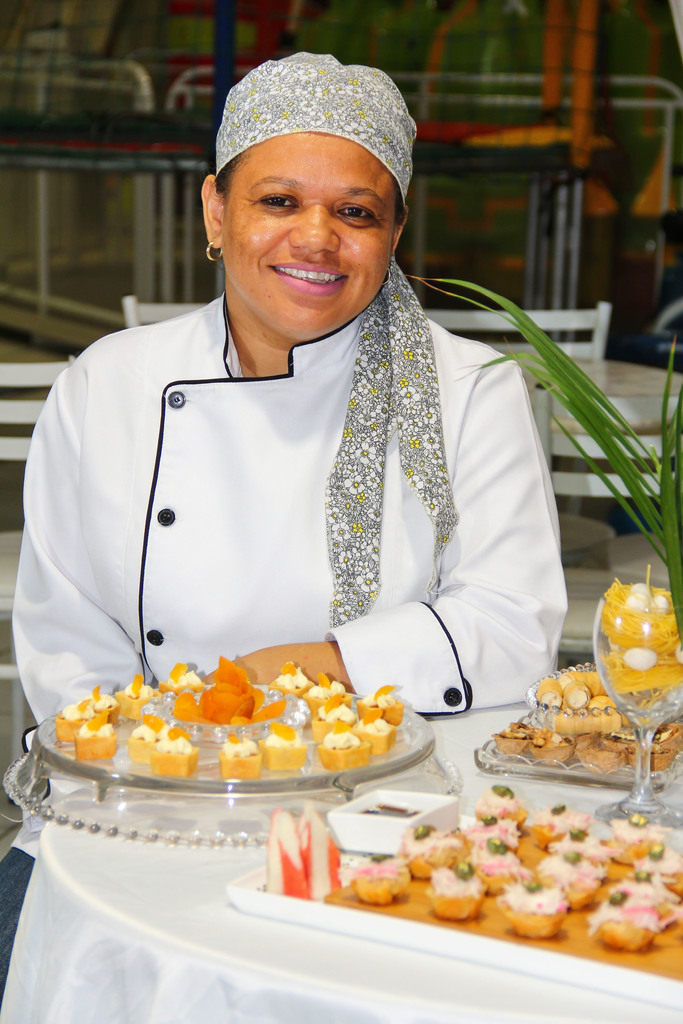Person: (0, 49, 569, 1005)
